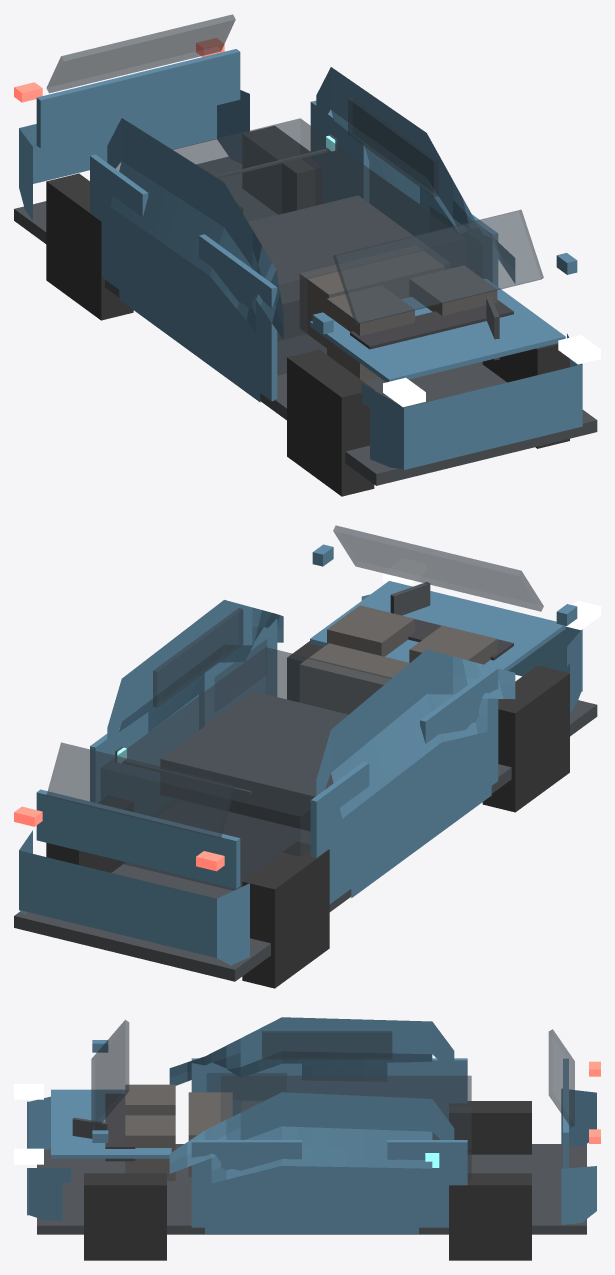
The model's file is pickup_lod2.f18a1b6b68.glb.
The picture shows the model from 3 angles, top to bottom: view 1: azimuth 30°, elevation 25°; view 2: azimuth 150°, elevation 25°; view 3: azimuth 270°, elevation 25°; orthographic projection. The views are drawn at different scales.
Visible parts, largest first — view 1: body_mesh, cab_mesh, windshield, tailgate_mesh, trim_mesh, wheel_well_mesh, tire_fr, frunk_mesh, tire_rr, rear_glass, seat_rear, tire_rl (+11 smaller); view 2: body_mesh, cab_mesh, wheel_well_mesh, trim_mesh, tailgate_mesh, rear_glass, tire_rr, tire_fr, windshield, frunk_mesh, seat_rear, door_fl_mesh (+11 smaller); view 3: body_mesh, trim_mesh, cab_mesh, tire_fl, tire_rl, tire_rr, frunk_mesh, window_fixed_r, door_rl_mesh, door_fl_mesh, door_fr_mesh, door_rr_mesh (+11 smaller).
Part boxes in pixels (bbox=[...]): body_mesh: bbox=[19, 67, 582, 469]; cab_mesh: bbox=[116, 118, 465, 375]; windshield: bbox=[333, 210, 543, 324]; tailgate_mesh: bbox=[36, 49, 240, 148]; trim_mesh: bbox=[14, 157, 597, 485]; wheel_well_mesh: bbox=[248, 195, 450, 340]; tire_fr: bbox=[287, 349, 374, 496]; frunk_mesh: bbox=[310, 279, 565, 382]; tire_rr: bbox=[46, 173, 133, 320]; rear_glass: bbox=[46, 14, 235, 93]; seat_rear: bbox=[299, 245, 444, 347]; tire_rl: bbox=[242, 126, 322, 214]; body_mesh: bbox=[19, 594, 582, 965]; cab_mesh: bbox=[101, 647, 391, 890]; wheel_well_mesh: bbox=[160, 691, 348, 831]; trim_mesh: bbox=[14, 700, 597, 981]; tailgate_mesh: bbox=[36, 789, 240, 888]; rear_glass: bbox=[46, 742, 235, 838]; tire_rr: bbox=[242, 841, 329, 988]; tire_fr: bbox=[482, 665, 569, 812]; windshield: bbox=[333, 525, 543, 611]; frunk_mesh: bbox=[310, 581, 565, 670]; seat_rear: bbox=[299, 643, 409, 714]; door_fl_mesh: bbox=[199, 618, 277, 729]; body_mesh: bbox=[27, 1017, 596, 1233]; trim_mesh: bbox=[37, 1144, 586, 1234]; cab_mesh: bbox=[220, 1075, 471, 1179]; tire_fl: bbox=[84, 1173, 166, 1260]; tire_rl: bbox=[449, 1173, 531, 1260]; tire_rr: bbox=[449, 1101, 531, 1154]; frunk_mesh: bbox=[51, 1089, 171, 1158]; window_fixed_r: bbox=[262, 1031, 392, 1059]; door_rl_mesh: bbox=[387, 1140, 467, 1227]; door_fl_mesh: bbox=[191, 1140, 301, 1227]; door_fr_mesh: bbox=[191, 1058, 301, 1115]; door_rr_mesh: bbox=[387, 1058, 467, 1139].
Size of the model in its own units: 2.22 by 1.81 by 5.85.
